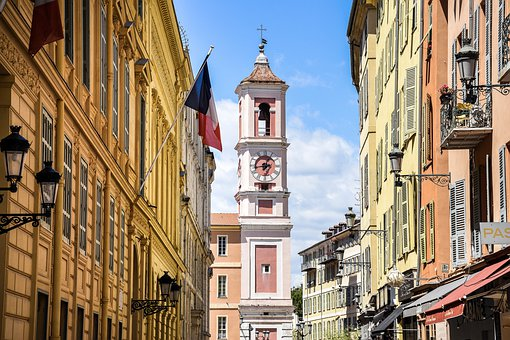Flag: (184, 63, 224, 153)
